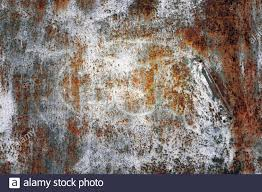rust: (178, 2, 262, 151), (6, 65, 57, 174), (61, 39, 90, 152), (139, 46, 164, 106), (127, 2, 166, 26), (28, 6, 50, 24)
